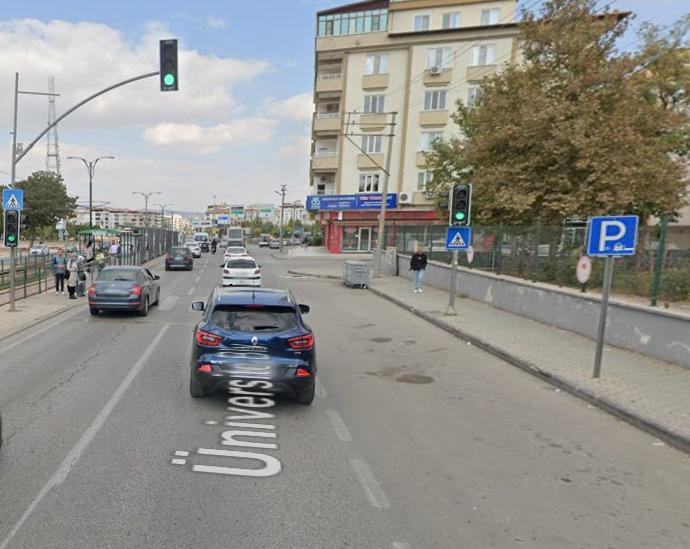disabledpark: (591, 218, 636, 254)
greenlight: (161, 38, 179, 88), (453, 185, 470, 223)
